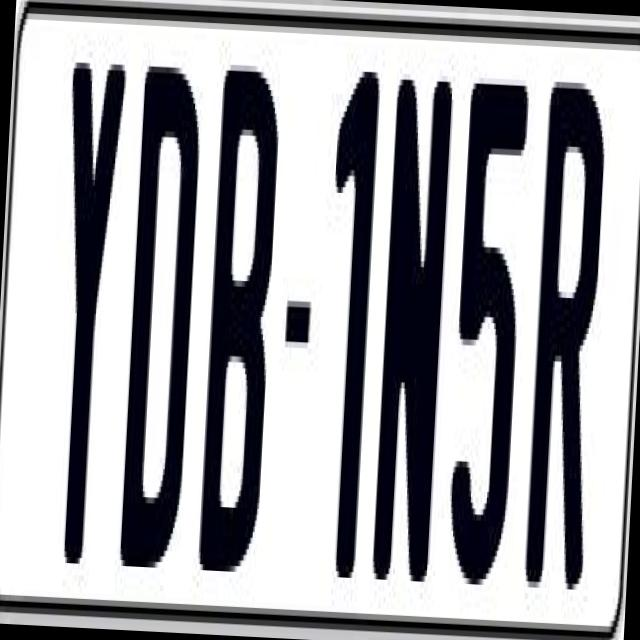1: (311, 53, 378, 560)
5: (439, 71, 532, 609)
B: (194, 52, 282, 566)
D: (118, 54, 205, 586)
N: (366, 67, 448, 599)
R: (521, 75, 613, 608)
Y: (45, 45, 129, 577)
